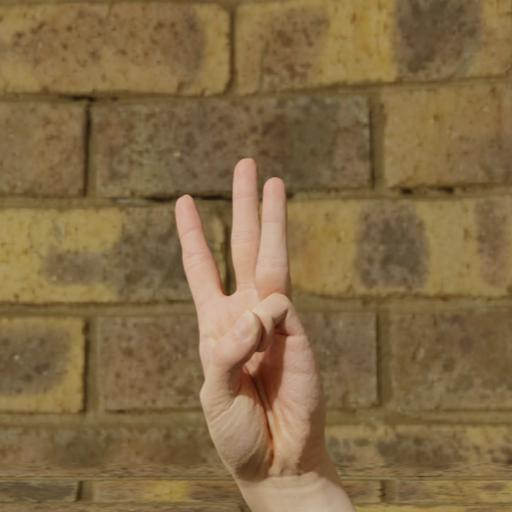W: (168, 155, 326, 482)
